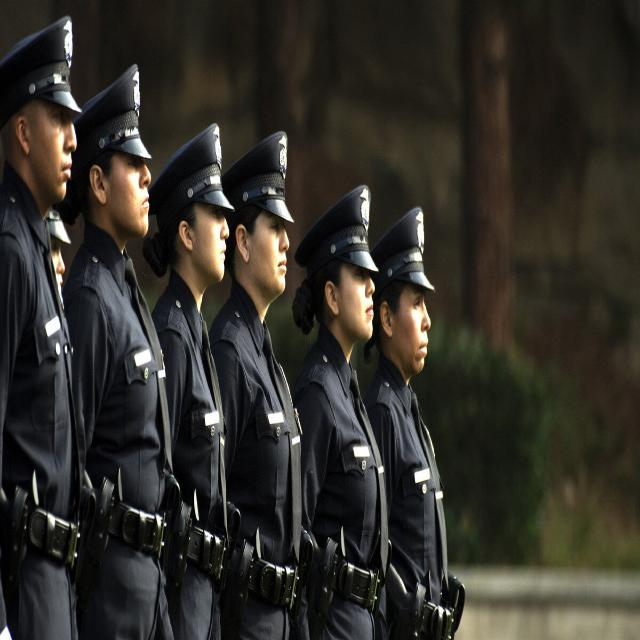police: (71, 39, 169, 640), (0, 0, 77, 640), (159, 86, 246, 640), (222, 96, 304, 640), (374, 203, 470, 640), (303, 147, 388, 640)
